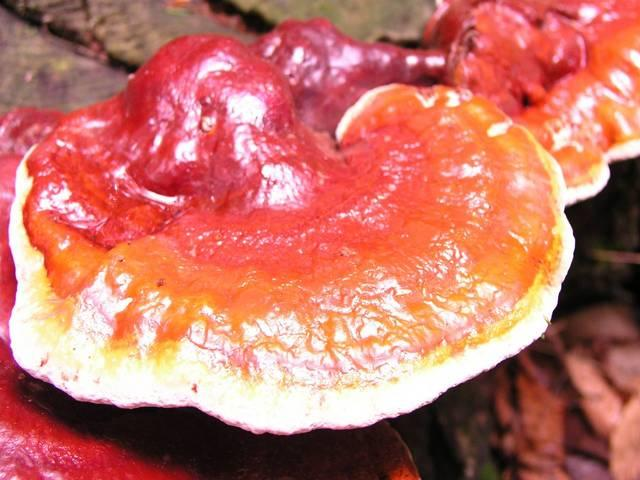poisonous_mushroom: (6, 25, 577, 438)
